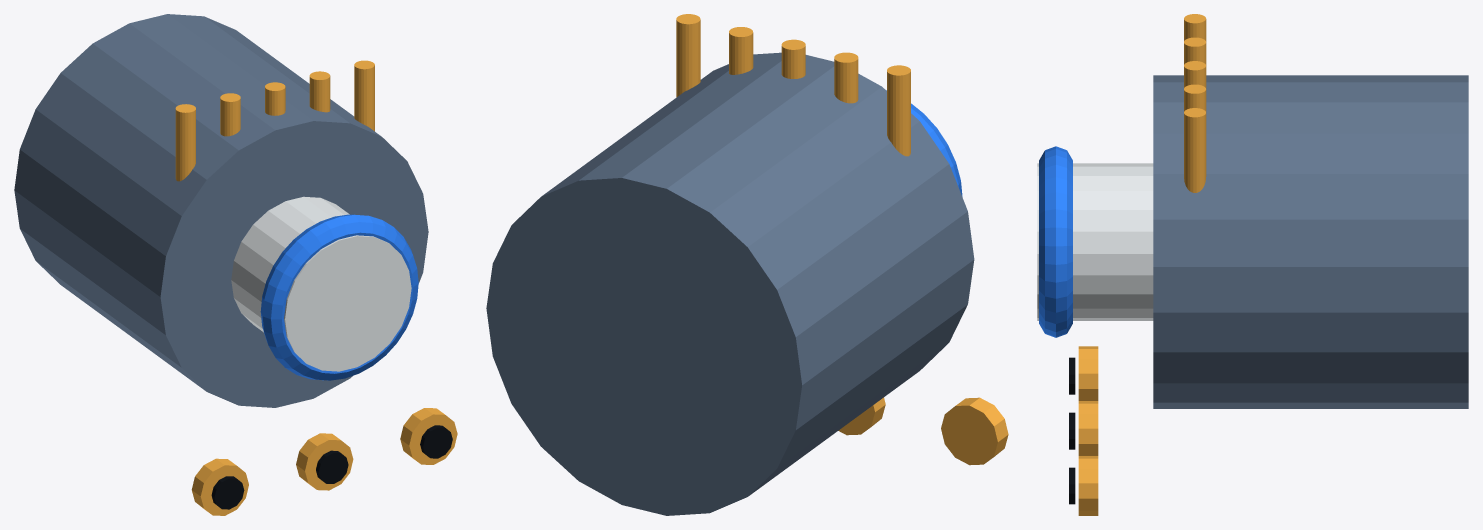
The model's file is 42_L90_HollowCathodeNeutralizerA.fbx.
3 renders of one model, left to right at view 1: azimuth 30°, elevation 25°; view 2: azimuth 150°, elevation 25°; view 3: azimuth 270°, elevation 25°, orthographic. The views are drawn at different scales.
Visible parts, largest first — view 1: L90_HollowCathodeNeutralizerA, L90_HollowCathodeNeutralizerA_Part_0002, L90_HollowCathodeNeutralizerA_Part_0006, L90_HollowCathodeNeutralizerA_Part_0004, L90_HollowCathodeNeutralizerA_Part_0008, L90_HollowCathodeNeutralizerA_Part_0009, L90_HollowCathodeNeutralizerA_Part_0005, L90_HollowCathodeNeutralizerA_Part_0007; view 2: L90_HollowCathodeNeutralizerA, L90_HollowCathodeNeutralizerA_Part_0004, L90_HollowCathodeNeutralizerA_Part_0002, L90_HollowCathodeNeutralizerA_Part_0006; view 3: L90_HollowCathodeNeutralizerA, L90_HollowCathodeNeutralizerA_Part_0002, L90_HollowCathodeNeutralizerA_Part_0008, L90_HollowCathodeNeutralizerA_Part_0004, L90_HollowCathodeNeutralizerA_Part_0006.
Part boxes in pixels (left/top/right/bottom): L90_HollowCathodeNeutralizerA: left=14, top=14, right=428, bottom=407; L90_HollowCathodeNeutralizerA_Part_0002: left=260, top=214, right=418, bottom=380; L90_HollowCathodeNeutralizerA_Part_0006: left=296, top=433, right=353, bottom=490; L90_HollowCathodeNeutralizerA_Part_0004: left=191, top=458, right=248, bottom=515; L90_HollowCathodeNeutralizerA_Part_0008: left=400, top=408, right=457, bottom=464; L90_HollowCathodeNeutralizerA_Part_0009: left=420, top=425, right=452, bottom=458; L90_HollowCathodeNeutralizerA_Part_0005: left=211, top=476, right=244, bottom=509; L90_HollowCathodeNeutralizerA_Part_0007: left=316, top=450, right=348, bottom=483; L90_HollowCathodeNeutralizerA: left=486, top=14, right=974, bottom=515; L90_HollowCathodeNeutralizerA_Part_0004: left=941, top=397, right=1008, bottom=465; L90_HollowCathodeNeutralizerA_Part_0002: left=886, top=90, right=962, bottom=196; L90_HollowCathodeNeutralizerA_Part_0006: left=838, top=397, right=885, bottom=435; L90_HollowCathodeNeutralizerA: left=1037, top=14, right=1468, bottom=408; L90_HollowCathodeNeutralizerA_Part_0002: left=1039, top=146, right=1072, bottom=337; L90_HollowCathodeNeutralizerA_Part_0008: left=1078, top=456, right=1098, bottom=515; L90_HollowCathodeNeutralizerA_Part_0004: left=1078, top=346, right=1098, bottom=400; L90_HollowCathodeNeutralizerA_Part_0006: left=1078, top=401, right=1098, bottom=455.
Bounding box in the file's own units: 72 × 93.5 × 93.
